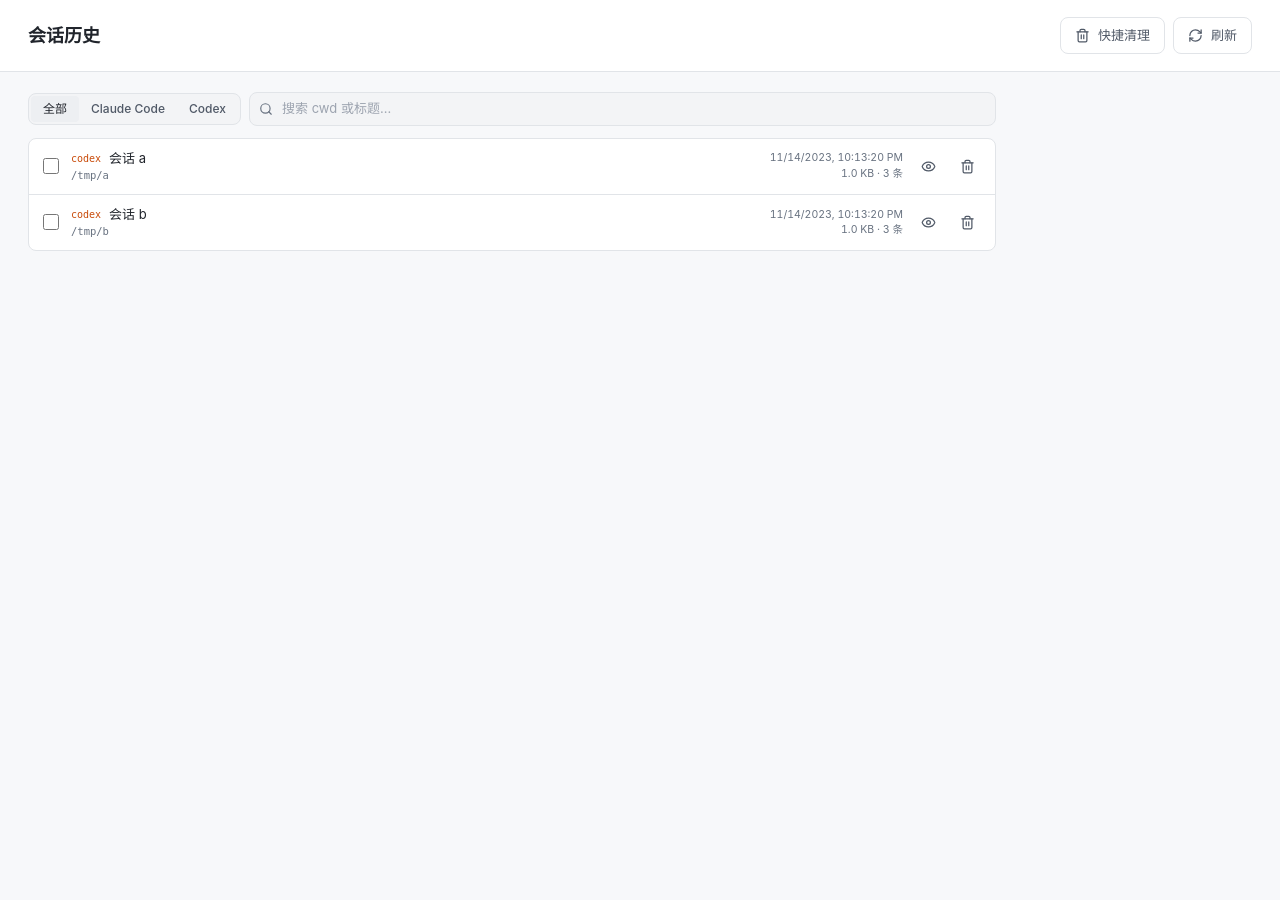
Test: HistoryPage — 删除 › 批量删除部分失败时如实报出 N/M 与原因
Check: the text "会话 a" is shown, box 109,148 -> 146,168
Click the checkbox named "选择 会话 a".
click(51, 166)  # box 43,158 -> 59,174
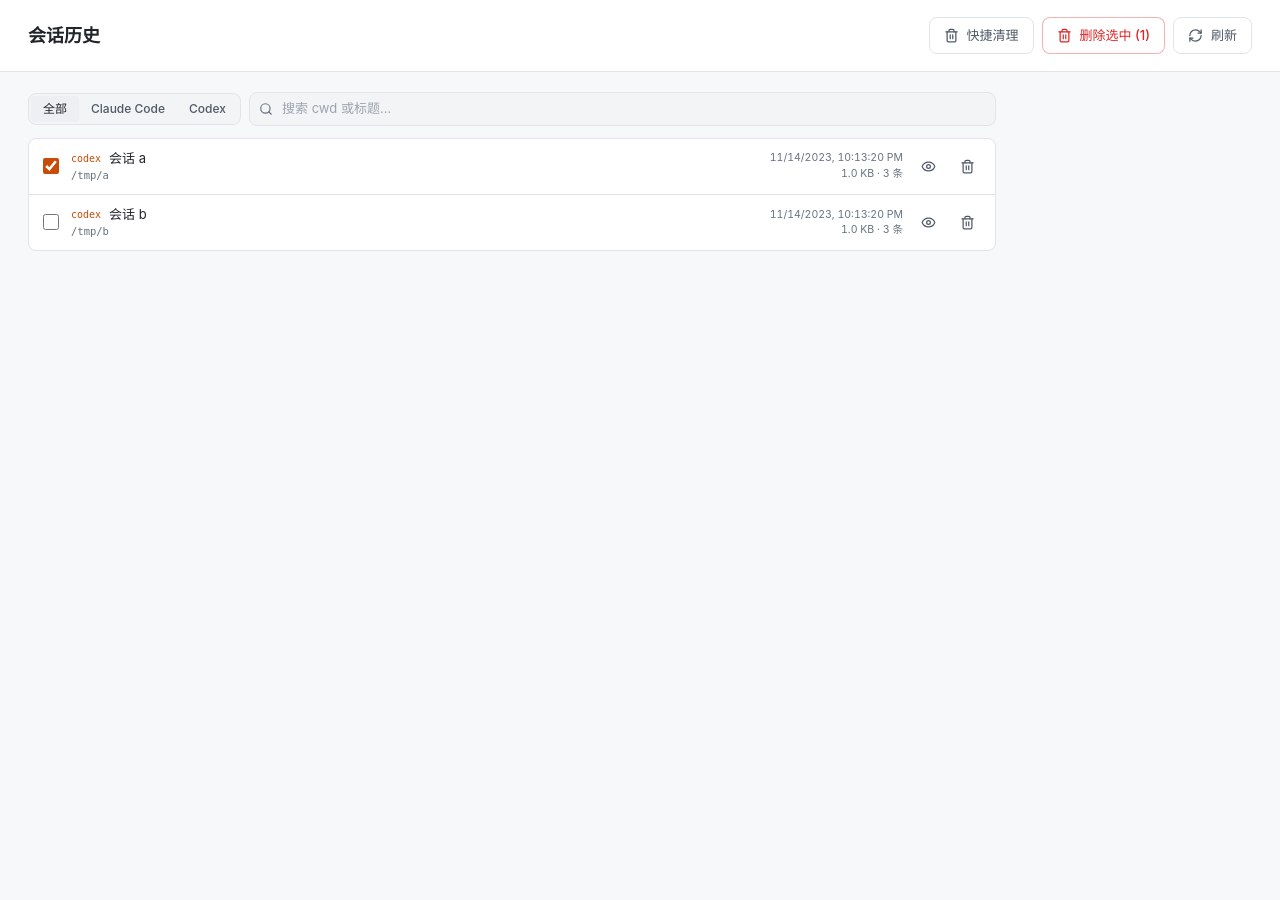
Click the checkbox named "选择 会话 b".
click(51, 222)  # box 43,214 -> 59,230
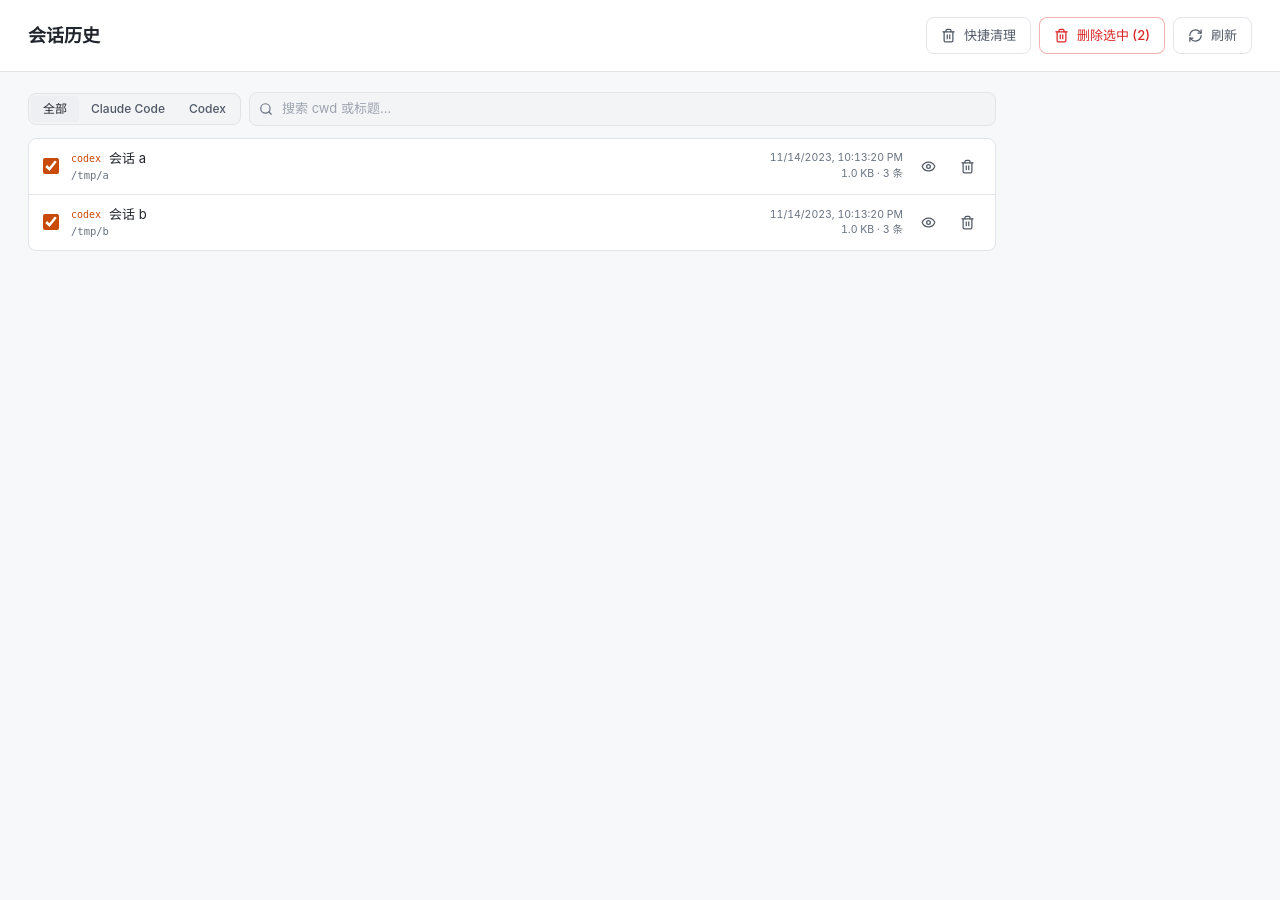
Click the button "删除选中 (2)".
click(1102, 36)  # box 1039,17 -> 1165,54
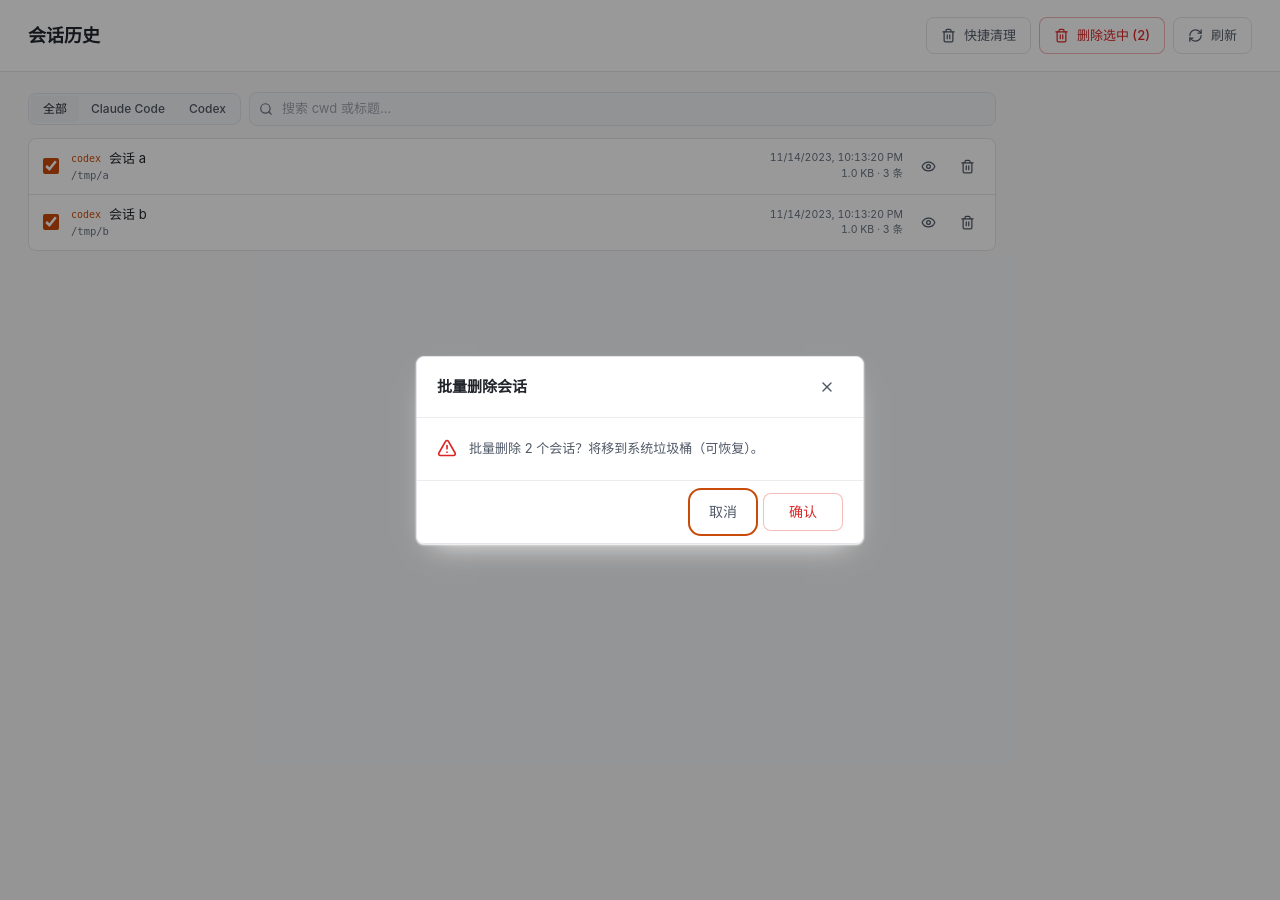
Click the button "确认".
click(803, 512)  # box 763,493 -> 843,531
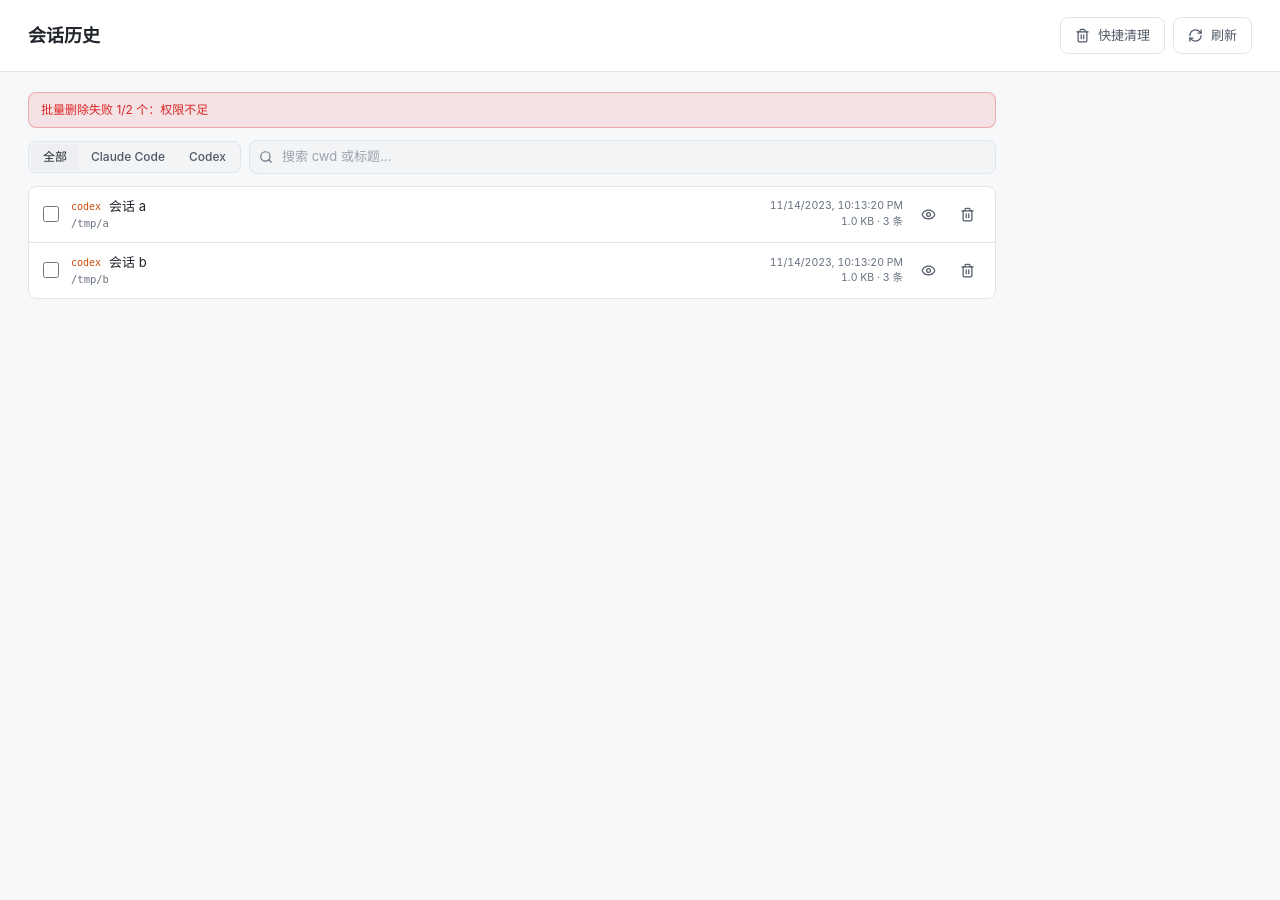
Check: the message shows "批量删除失败 1/2 个", box 41,102 -> 208,117
Check: the message shows "权限不足", box 41,102 -> 208,117
